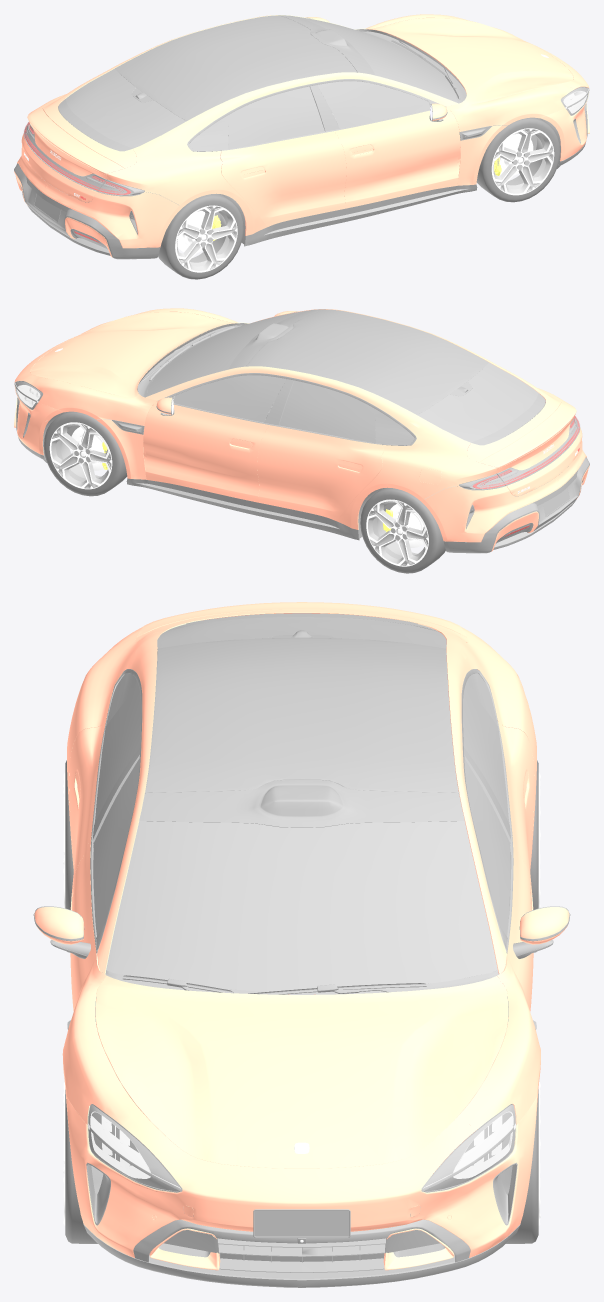
The model's file is SU7_origin.glb.
The picture shows the model from 3 angles, top to bottom: view 1: azimuth 30°, elevation 25°; view 2: azimuth 150°, elevation 25°; view 3: azimuth 270°, elevation 25°; orthographic projection. The views are drawn at different scales.
Visible parts, largest first — view 1: Xiaomi_1, Xiaomi_5, Xiaomi_2, Xiaomi_wheelBR, Xiaomi_wheelFR, Xiaomi_brakeLightsOFF, Xiaomi_3; view 2: Xiaomi_1, Xiaomi_5, Xiaomi_2, Xiaomi_wheelBL, Xiaomi_wheelFL, Xiaomi_brakeLightsOFF, Xiaomi_3; view 3: Xiaomi_1, Xiaomi_5, Xiaomi_2, Xiaomi_3, Xiaomi_wheelFR, Xiaomi_wheelFL, Xiaomi_wheelBR, Xiaomi_wheelBL.
Part boxes in pixels (box(x1,y1,x2,y2)): Xiaomi_1: box(14, 14, 589, 257); Xiaomi_5: box(14, 15, 588, 259); Xiaomi_2: box(65, 16, 457, 151); Xiaomi_wheelBR: box(158, 193, 243, 279); Xiaomi_wheelFR: box(476, 117, 560, 202); Xiaomi_brakeLightsOFF: box(24, 122, 131, 194); Xiaomi_3: box(24, 89, 588, 197); Xiaomi_1: box(14, 308, 589, 551); Xiaomi_5: box(15, 309, 589, 553); Xiaomi_2: box(146, 310, 538, 445); Xiaomi_wheelBL: box(360, 487, 445, 573); Xiaomi_wheelFL: box(43, 411, 127, 496); Xiaomi_brakeLightsOFF: box(472, 416, 579, 488); Xiaomi_3: box(15, 383, 577, 493); Xiaomi_1: box(34, 602, 569, 1270); Xiaomi_5: box(34, 613, 569, 1287); Xiaomi_2: box(93, 617, 510, 991); Xiaomi_3: box(88, 1111, 515, 1188); Xiaomi_wheelFR: box(63, 1082, 97, 1243); Xiaomi_wheelFL: box(506, 1082, 540, 1243); Xiaomi_wheelBR: box(63, 760, 73, 909); Xiaomi_wheelBL: box(530, 760, 540, 909).
Bounding box in the file's own units: 5 × 1.45 × 2.2.
